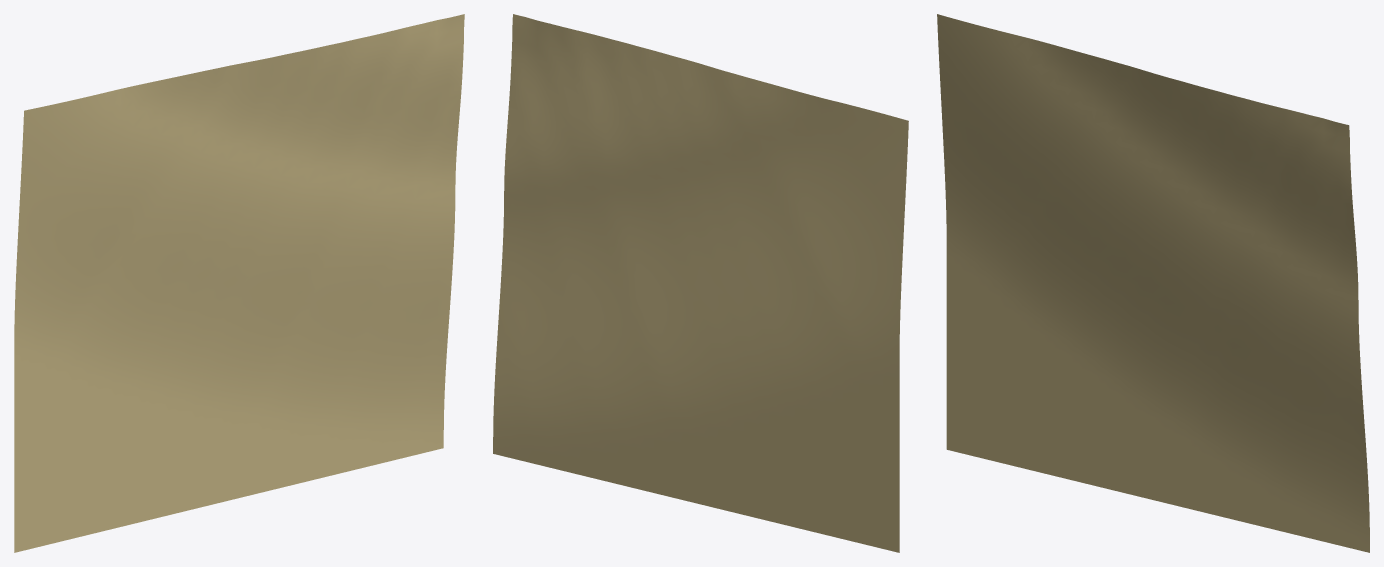
File: island_terrain_18_01.obj
3 renders of one model, left to right at view 1: azimuth 30°, elevation 25°; view 2: azimuth 150°, elevation 25°; view 3: azimuth 330°, elevation 25°, orthographic. The views are drawn at different scales.
Visible parts, largest first — view 1: island_terrain_18_01; view 2: island_terrain_18_01; view 3: island_terrain_18_01.
Part boxes in pixels (x1=…): island_terrain_18_01: x1=14, y1=14, x2=464, y2=552; island_terrain_18_01: x1=493, y1=14, x2=908, y2=552; island_terrain_18_01: x1=937, y1=14, x2=1369, y2=552.
Bounding box in the file's own units: 256 × 256 × 21.65.
